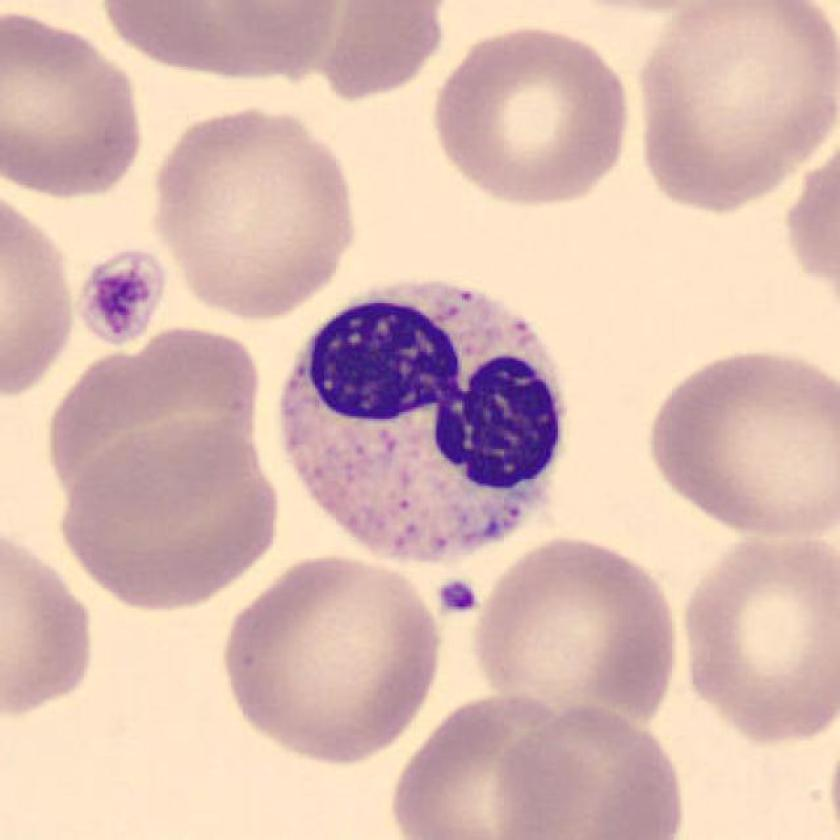neutrophil: (279, 282, 564, 561)
